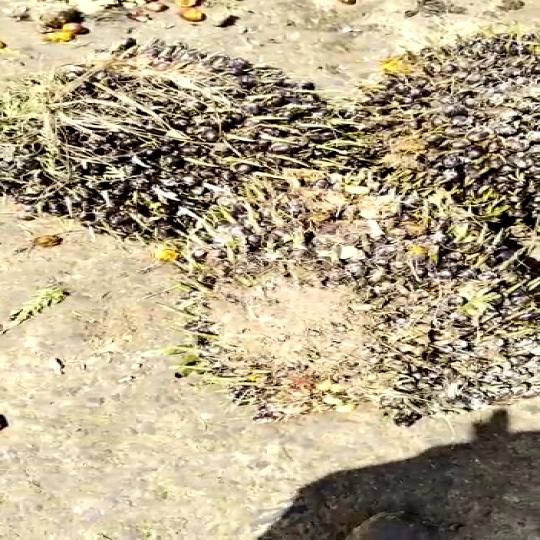mentah: (154, 183, 538, 418), (0, 33, 334, 222), (357, 36, 540, 214)
